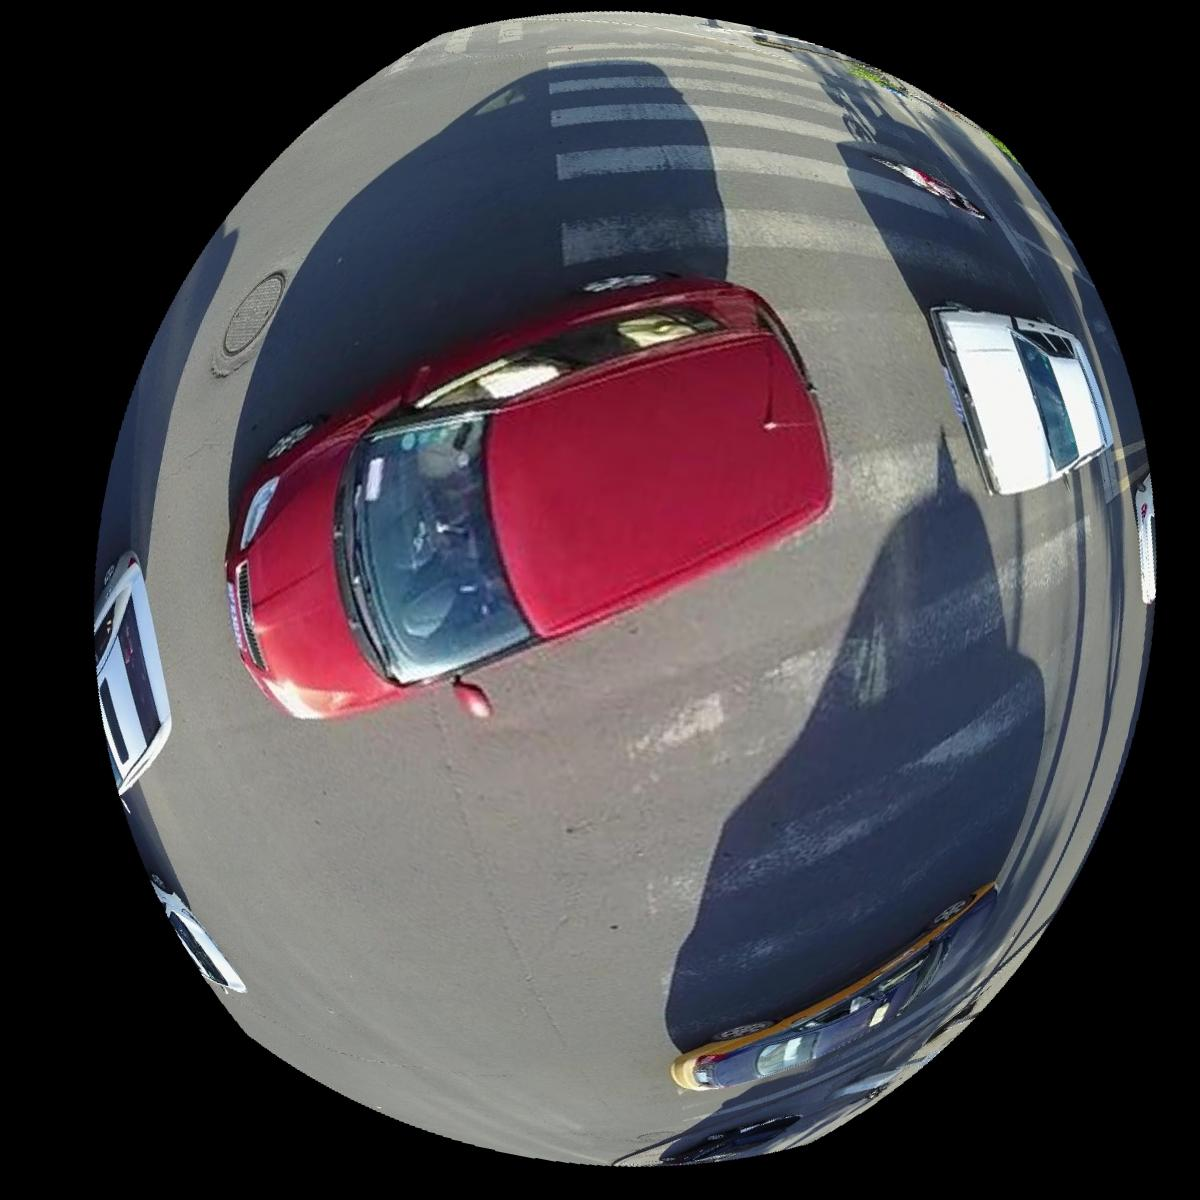cars: (225, 271, 831, 721), (669, 886, 997, 1093), (930, 303, 1113, 496)
